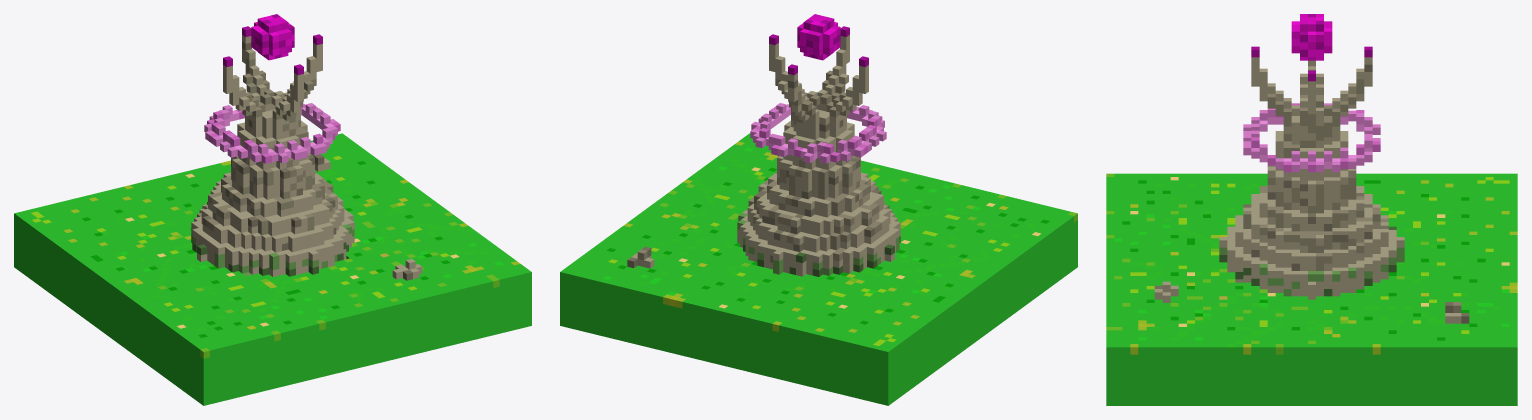
File: warp-tower.obj
The picture shows the model from 3 angles, left to right: view 1: azimuth 30°, elevation 25°; view 2: azimuth 150°, elevation 25°; view 3: azimuth 270°, elevation 25°; orthographic projection. The views are drawn at different scales.
Size of the model in its own units: 5.1 by 4.1 by 5.1.
Materials: 1 (1 with a texture image).
